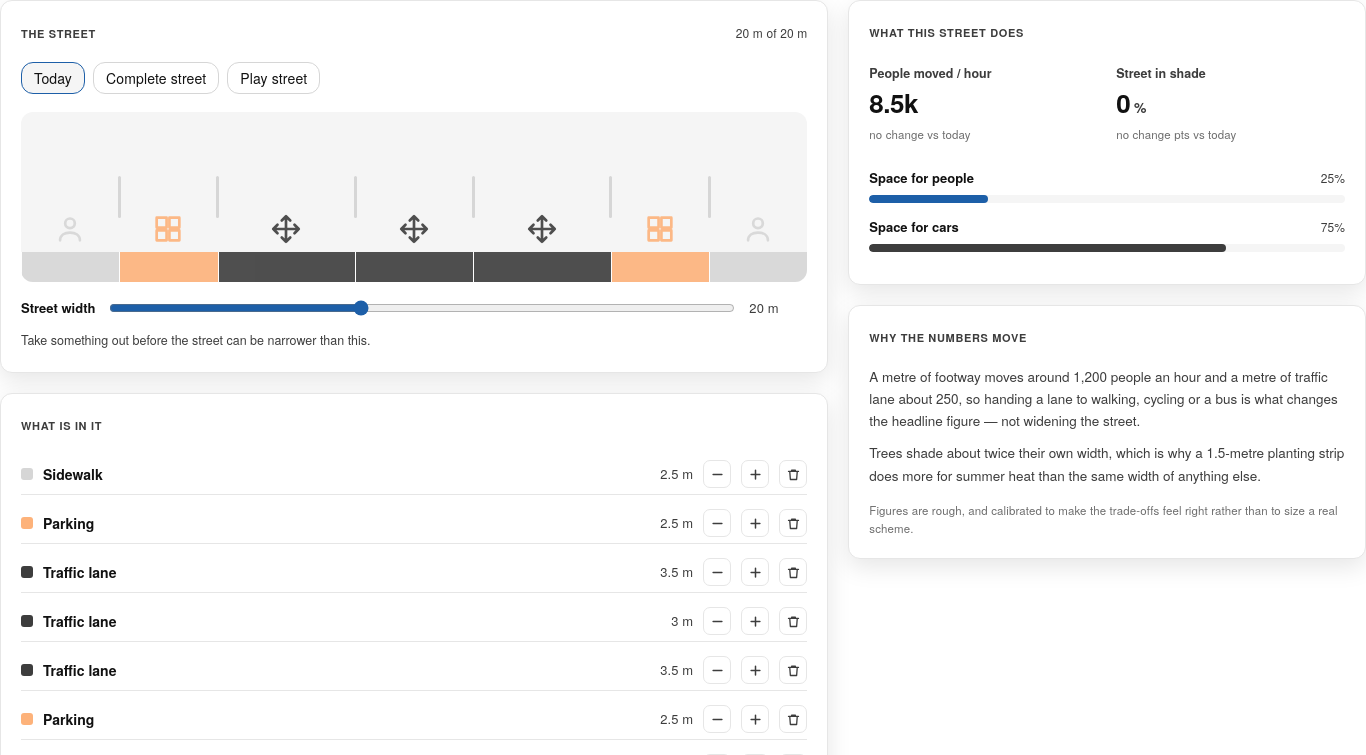
Street Section Mixer › removes something, and leaves the gap visible rather than hiding it
The image size is (1366, 755).
Click the 1st button named "Remove Parking" at (793, 523), box 779,509 -> 807,537
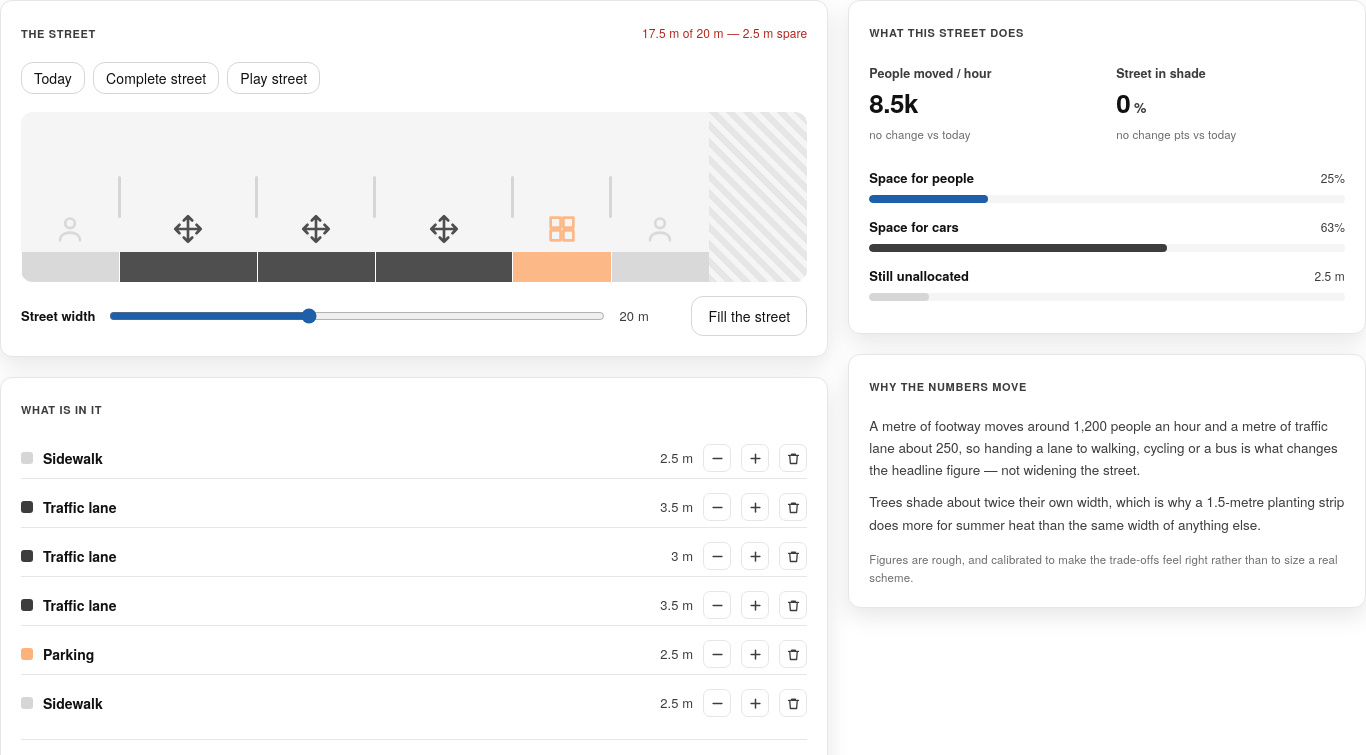
Now the text "17.5 m of 20 m — 2.5 m spare" is shown, box 642,21 -> 807,45
Now the text "Still unallocated" is shown, box 869,264 -> 969,288
